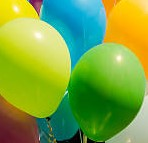Balloon: (69, 43, 146, 143), (1, 18, 72, 121)
